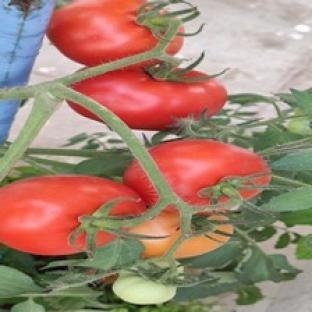Tomato: (0, 176, 144, 254), (72, 70, 227, 130), (150, 140, 270, 206), (130, 211, 181, 257), (113, 271, 176, 305), (286, 109, 311, 135)
